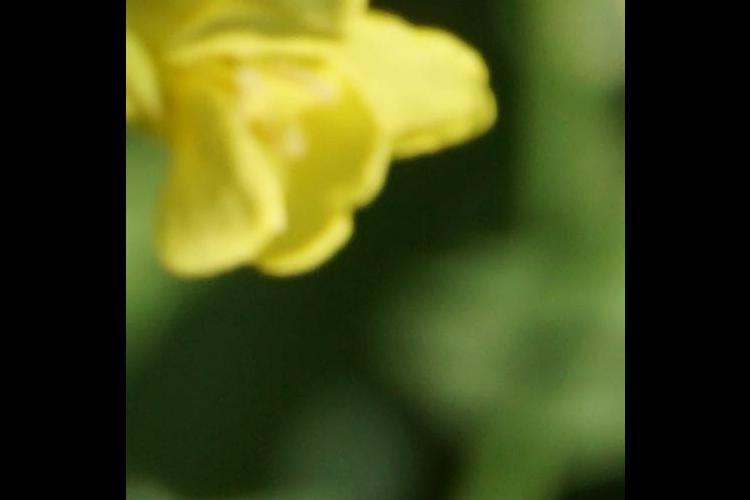yellow: (152, 1, 480, 298)
